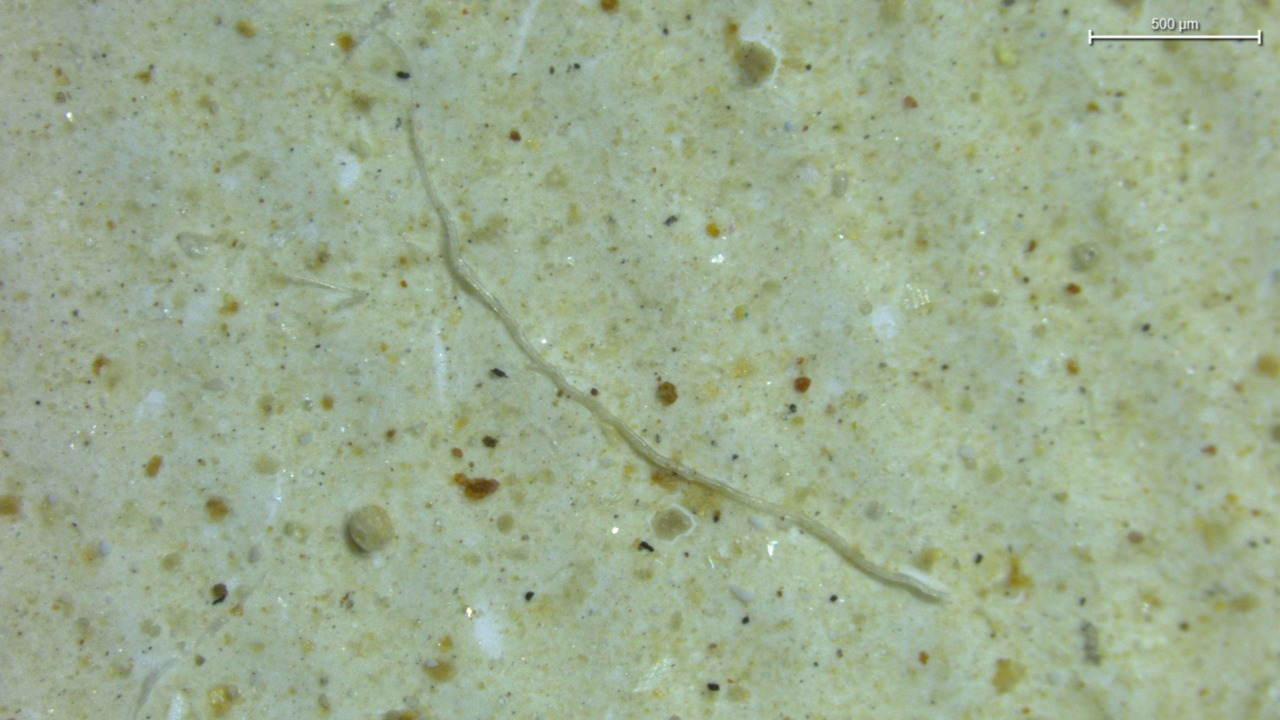microplastic_fragment: (347, 505, 395, 552)
